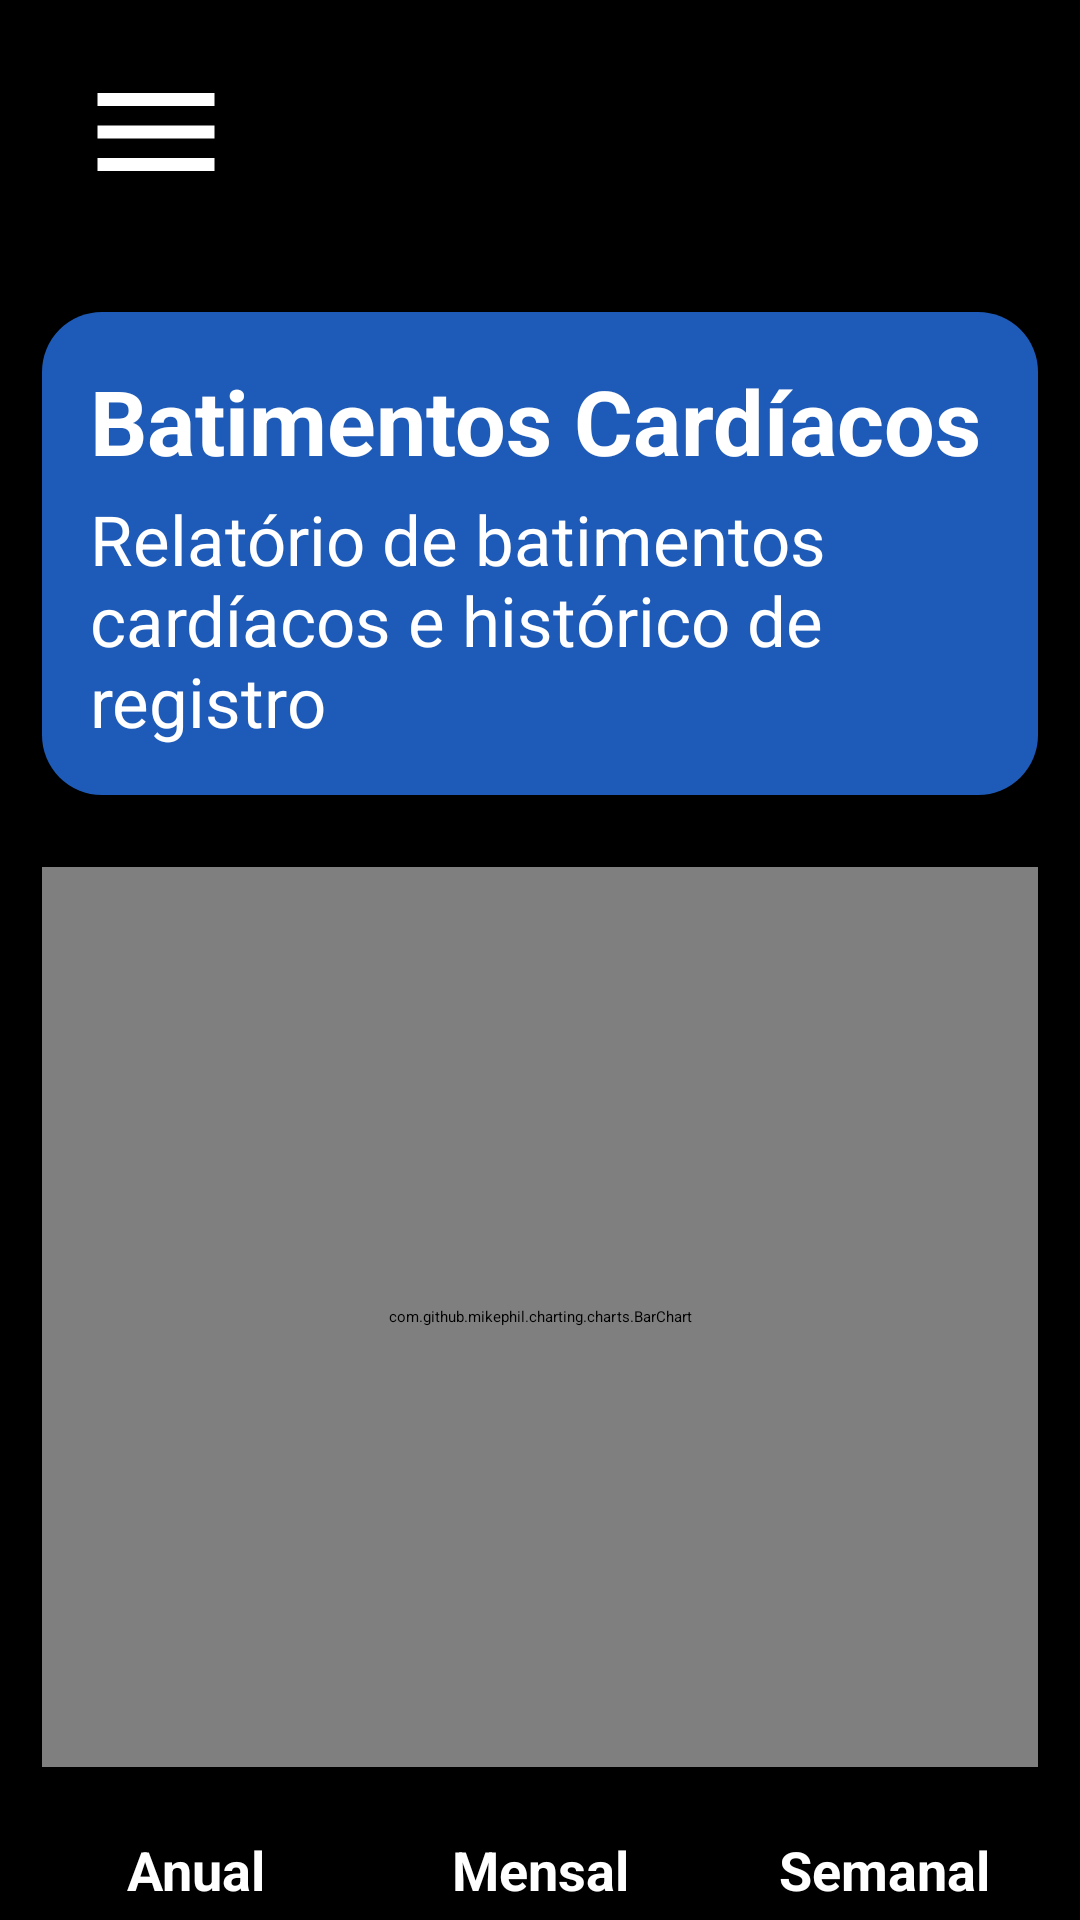

Screen size 1080px x 1920px. Icon name, then its box in pixels as [x1=x1, y1=y1, x2=x2, y2=y2]:
Abrir menu: [x1=97, y1=93, x2=215, y2=171]
